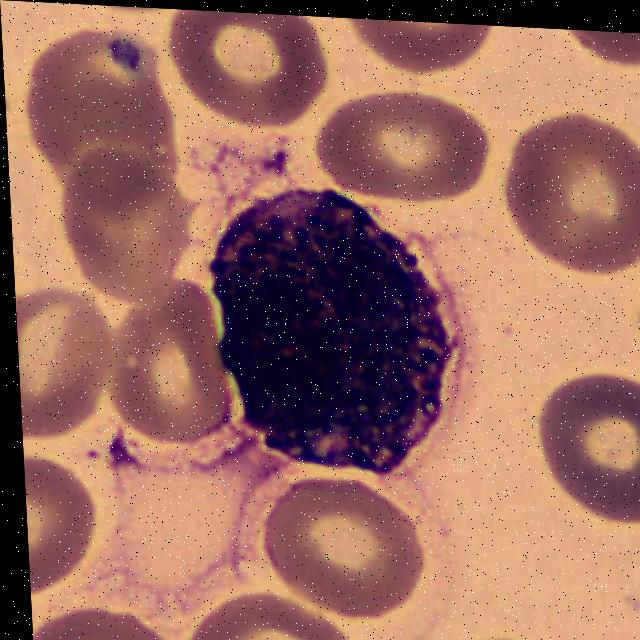basophil: (215, 200, 449, 483)
platelets: (107, 20, 153, 74)
rbc: (56, 140, 198, 311), (266, 477, 434, 620), (305, 86, 491, 209), (505, 110, 640, 271), (106, 289, 234, 458), (163, 9, 327, 120), (16, 304, 129, 458), (535, 369, 640, 527), (24, 465, 132, 605), (349, 18, 515, 87), (177, 595, 377, 640), (31, 598, 185, 640), (557, 29, 640, 82), (438, 634, 570, 640), (635, 269, 640, 381)
